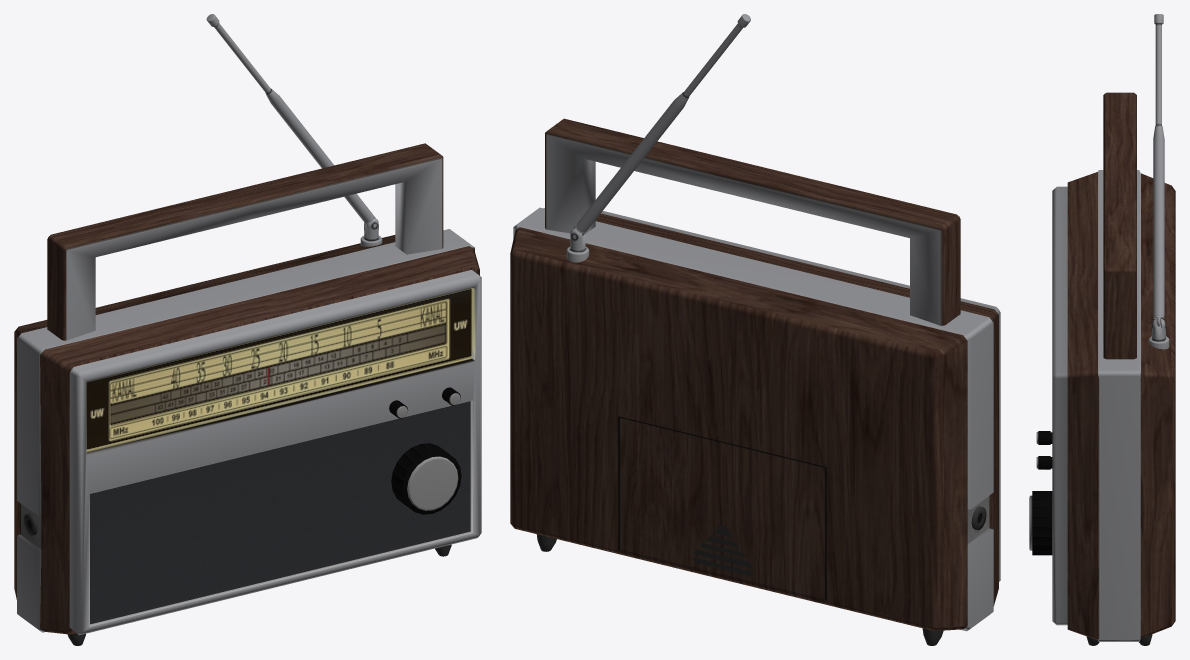
File: Old radio.fbx
3 views of the same model, side by side, from view 1: azimuth 30°, elevation 25°; view 2: azimuth 150°, elevation 25°; view 3: azimuth 270°, elevation 25° (orthographic). The views are drawn at different scales.
Parts seen in each view (by area): view 1: defaultMaterial; view 2: defaultMaterial; view 3: defaultMaterial.
Part boxes in pixels (box(x1,y1,x2,y2)): defaultMaterial: box(14, 14, 481, 645); defaultMaterial: box(510, 14, 1000, 645); defaultMaterial: box(1029, 14, 1175, 645).
Bounding box in the file's own units: 829 × 1022 × 251.
Materials: 1 (1 with a texture image).
